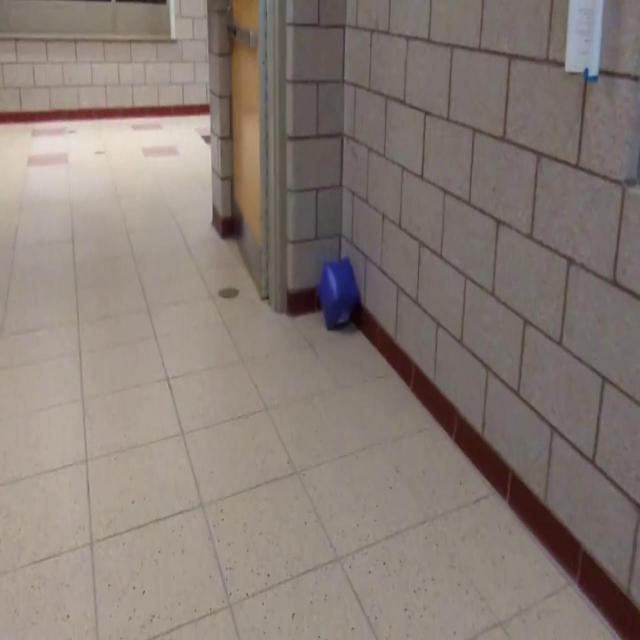frc_cube: (320, 257, 360, 331)
